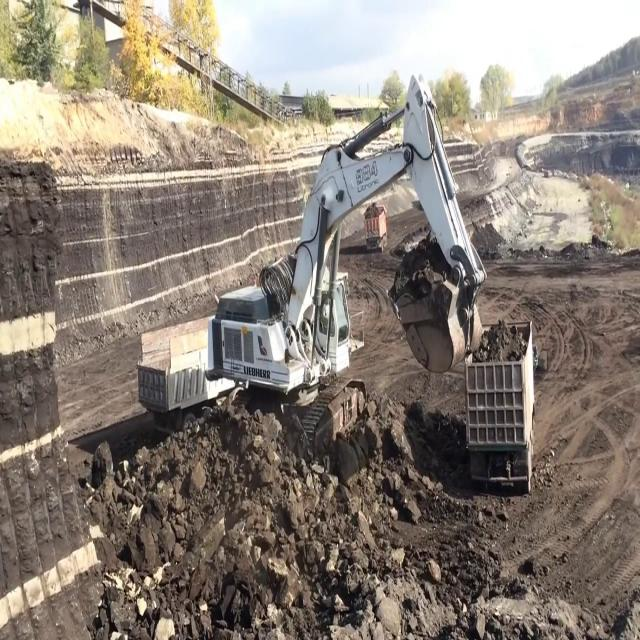excavator: (201, 71, 490, 458)
